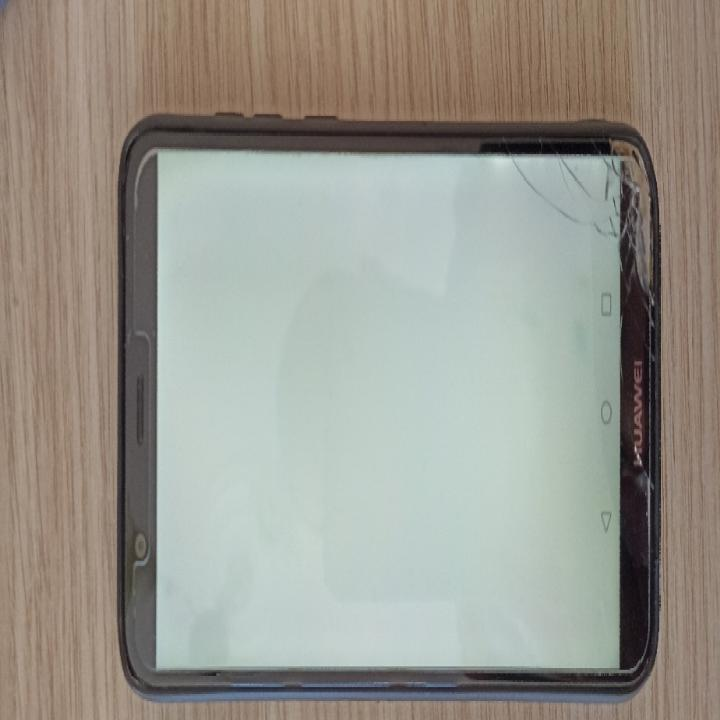Crack: (503, 130, 653, 316)
